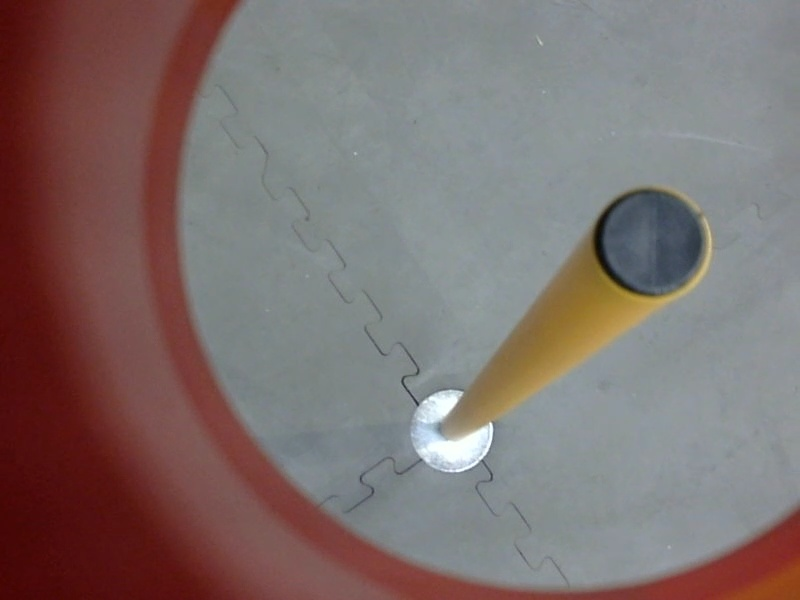tip: (586, 173, 719, 312)
